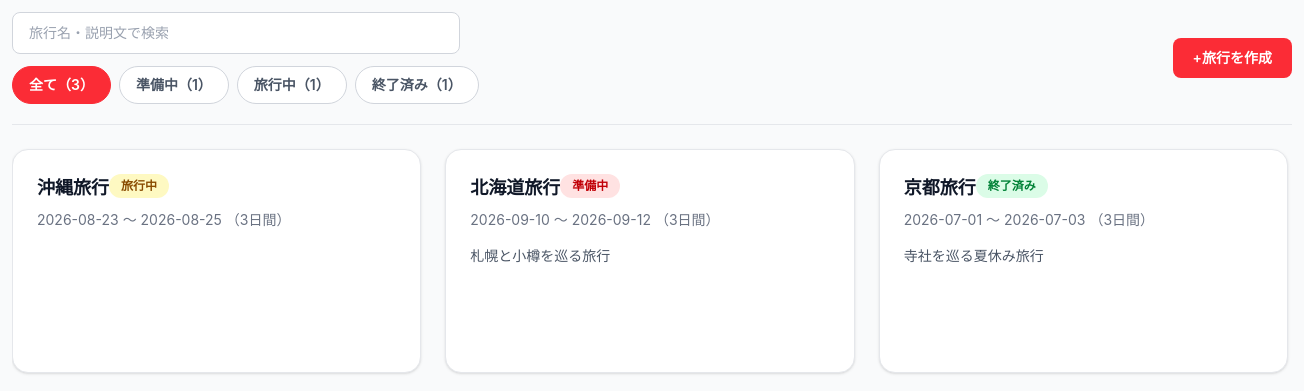
TripListPage › キーワード検索で該当する旅行がない場合は空状態を表示する
This screenshot has width=1304, height=391.
Expected: the heading "北海道旅行" is shown, [470,174,560,202]
Type "該当なし" into the search field named "キーワードで旅行を検索". click: (236, 33)
box: [12,12,460,54]
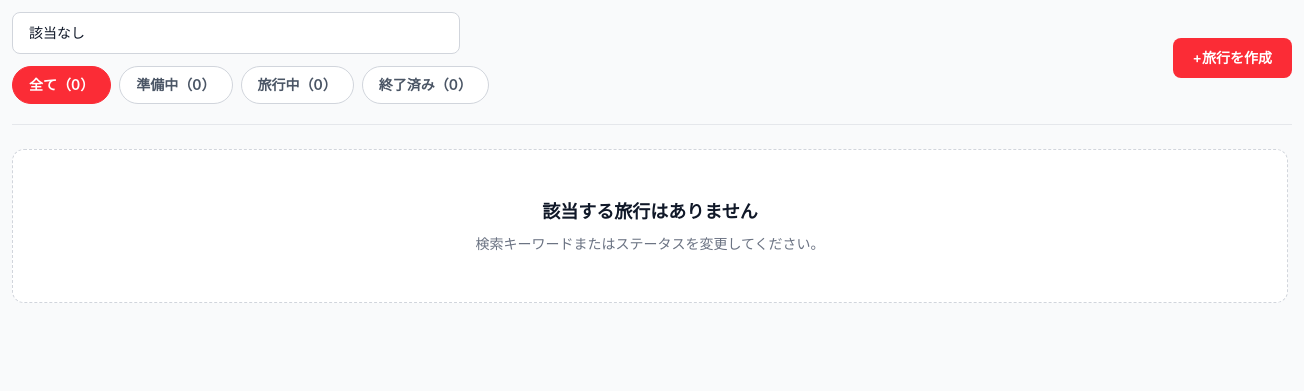
Expected: the heading "該当する旅行はありません" is shown, [542,201,758,222]
Expected: the text "検索キーワードまたはステータスを変更してください。" is shown, [475,235,825,252]
